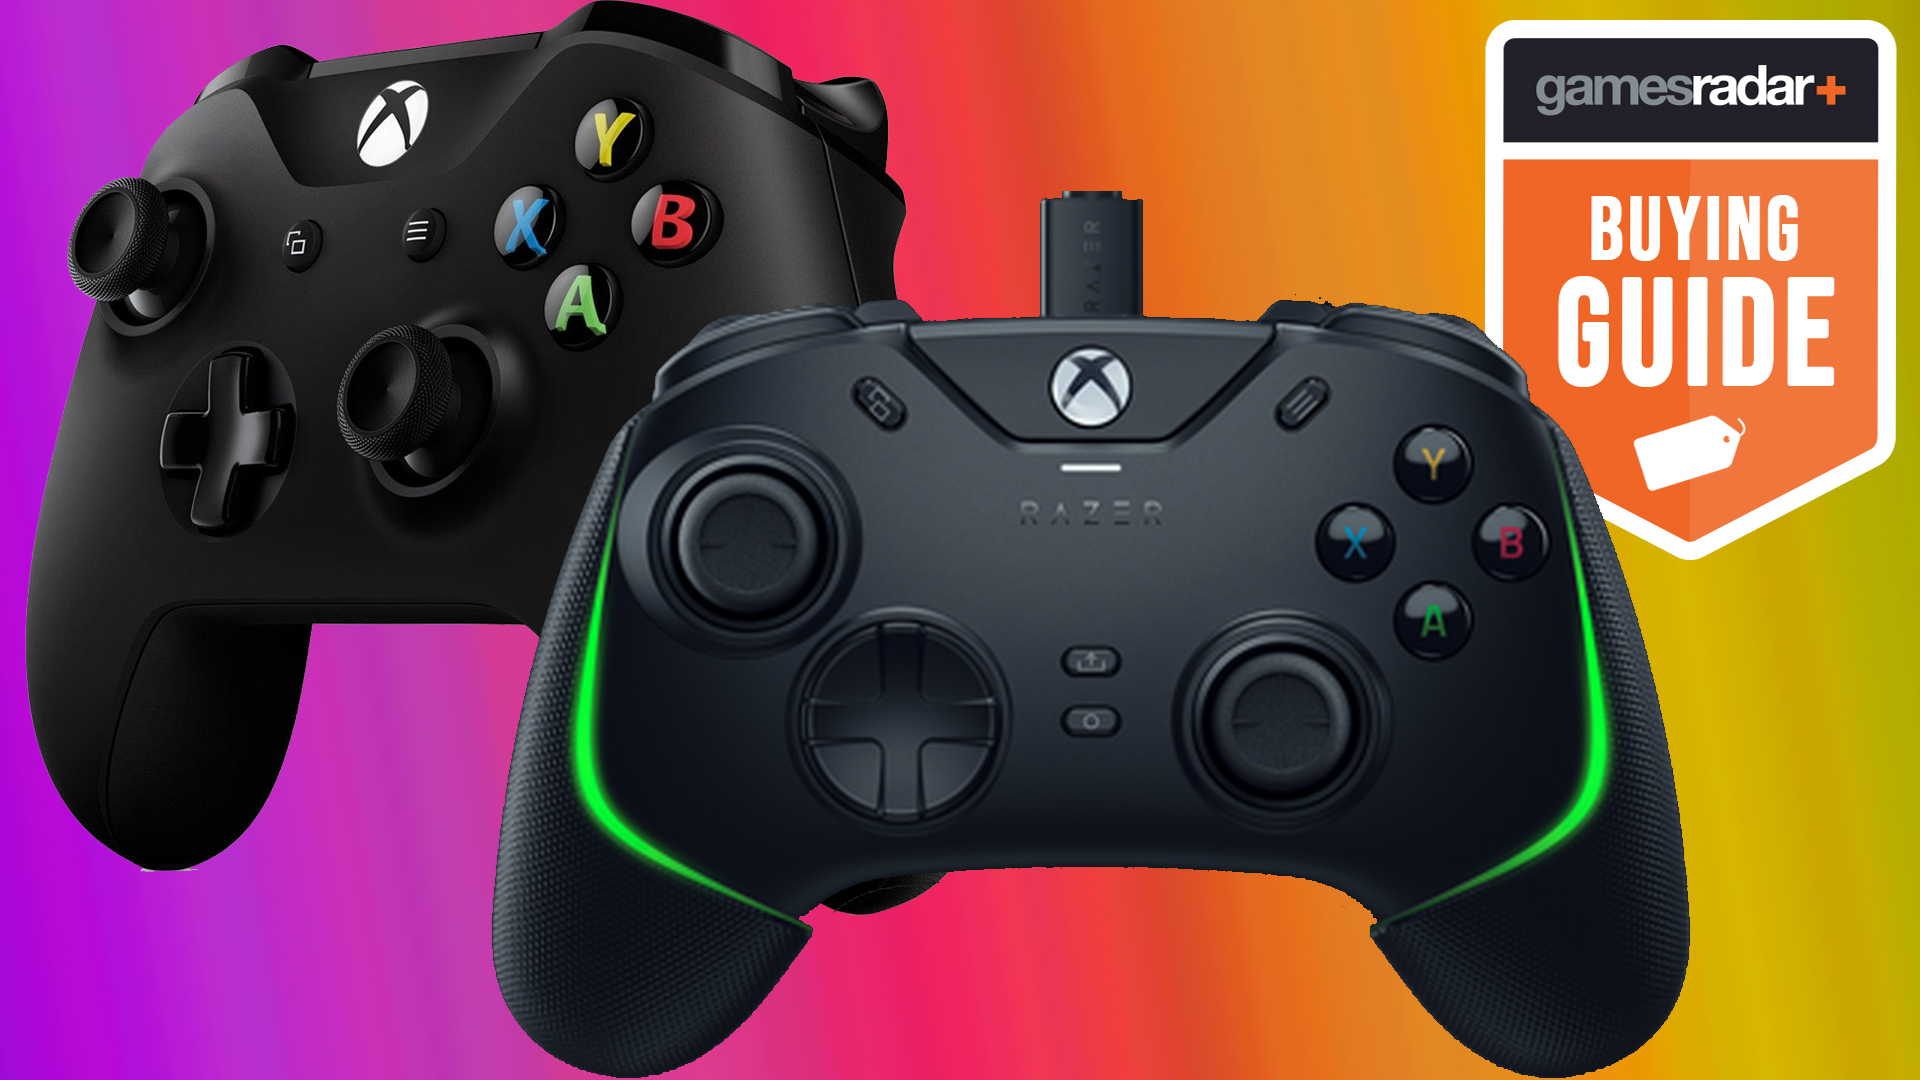controller: (489, 297, 1697, 1080), (22, 1, 945, 916)
